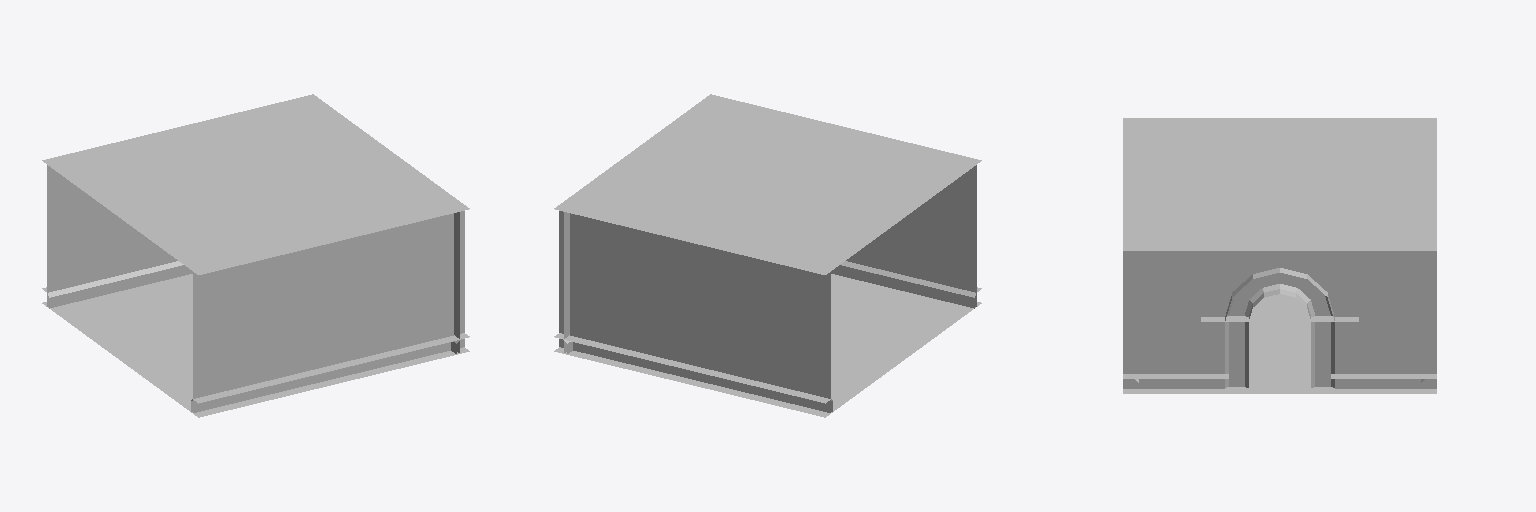
Rendered from halfRoom.obj.
The picture shows the model from 3 angles: view 1: azimuth 30°, elevation 25°; view 2: azimuth 150°, elevation 25°; view 3: azimuth 270°, elevation 25°; orthographic projection.
Visible parts, largest first — view 1: struct_ceiling_10, struct_wall_main_half_1, struct_floor_main_half_0, struct_wall_main_half_2, struct_wall_base_half_1, struct_wall_base_half_6, struct_wall_main_half_7; view 2: struct_ceiling_10, struct_wall_main_half_2, struct_floor_main_half_0, struct_wall_main_half_1, struct_wall_base_half_1, struct_wall_base_half_6, struct_wall_main_half_8; view 3: struct_ceiling_10, struct_wall_main_half_7, struct_wall_main_half_8, struct_wall_big_door_upper_11, struct_floor_main_half_0, struct_wall_big_door_lower_4.
Boxes of the visible parts, x1=… form: struct_ceiling_10: x1=42, y1=94, x2=469, y2=274; struct_wall_main_half_1: x1=193, y1=211, x2=464, y2=412; struct_floor_main_half_0: x1=42, y1=274, x2=467, y2=417; struct_wall_main_half_2: x1=47, y1=165, x2=177, y2=306; struct_wall_base_half_1: x1=191, y1=335, x2=468, y2=417; struct_wall_base_half_6: x1=42, y1=261, x2=192, y2=308; struct_wall_main_half_7: x1=454, y1=212, x2=459, y2=352; struct_ceiling_10: x1=554, y1=94, x2=981, y2=274; struct_wall_main_half_2: x1=559, y1=211, x2=830, y2=412; struct_floor_main_half_0: x1=555, y1=274, x2=981, y2=417; struct_wall_main_half_1: x1=846, y1=165, x2=976, y2=306; struct_wall_base_half_1: x1=831, y1=261, x2=981, y2=308; struct_wall_base_half_6: x1=554, y1=333, x2=832, y2=411; struct_wall_main_half_8: x1=564, y1=212, x2=569, y2=352; struct_ceiling_10: x1=1123, y1=118, x2=1436, y2=250; struct_wall_main_half_7: x1=1123, y1=251, x2=1200, y2=388; struct_wall_main_half_8: x1=1359, y1=251, x2=1436, y2=388; struct_wall_big_door_upper_11: x1=1201, y1=246, x2=1358, y2=321; struct_floor_main_half_0: x1=1123, y1=294, x2=1436, y2=393; struct_wall_big_door_lower_4: x1=1201, y1=316, x2=1358, y2=393.
Size of the model in its own units: 4 by 2 by 4.